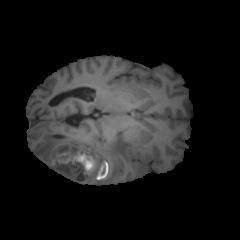glioma: (36, 129, 132, 183)
